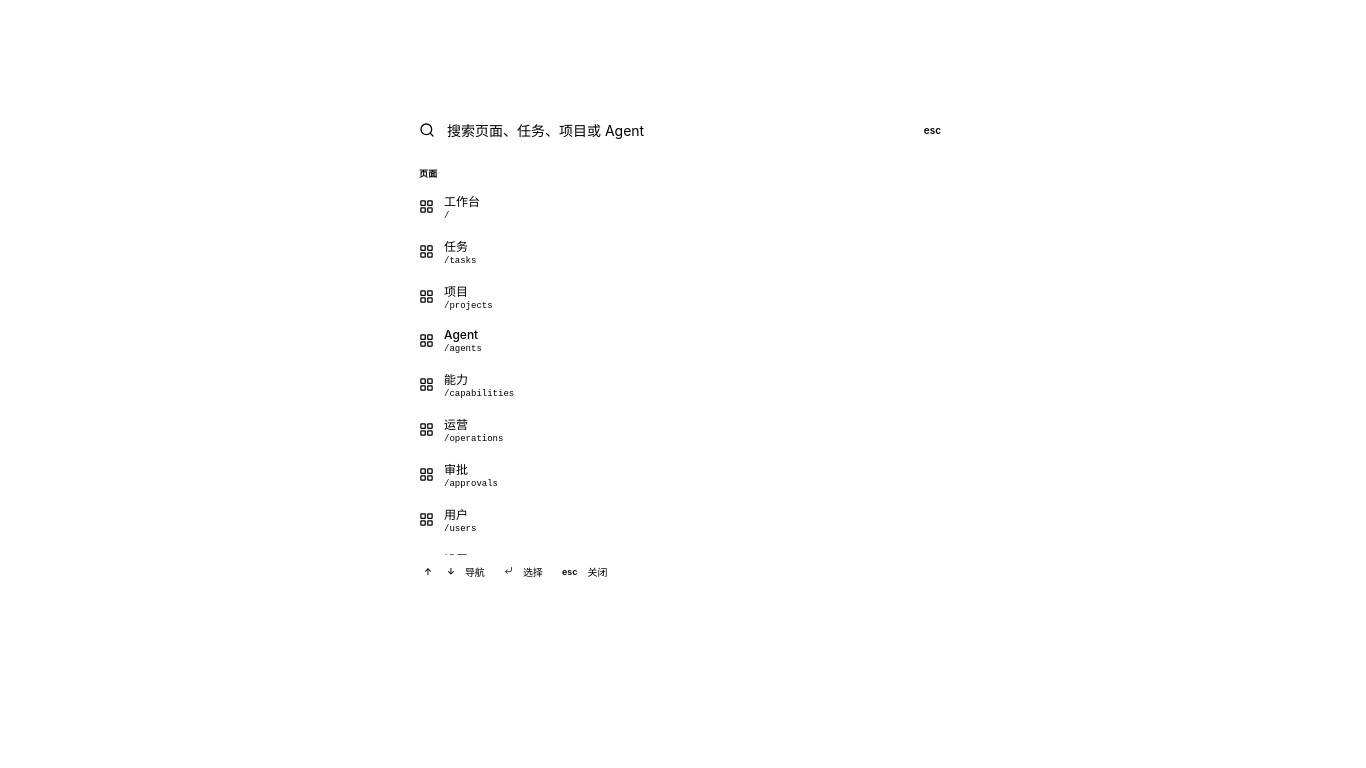
Test: CommandPalette › filters pages as the user types
The image size is (1366, 768).
Type "settings" into the dropdown. click: (676, 130)
box: x1=445 y1=120 x2=908 y2=140
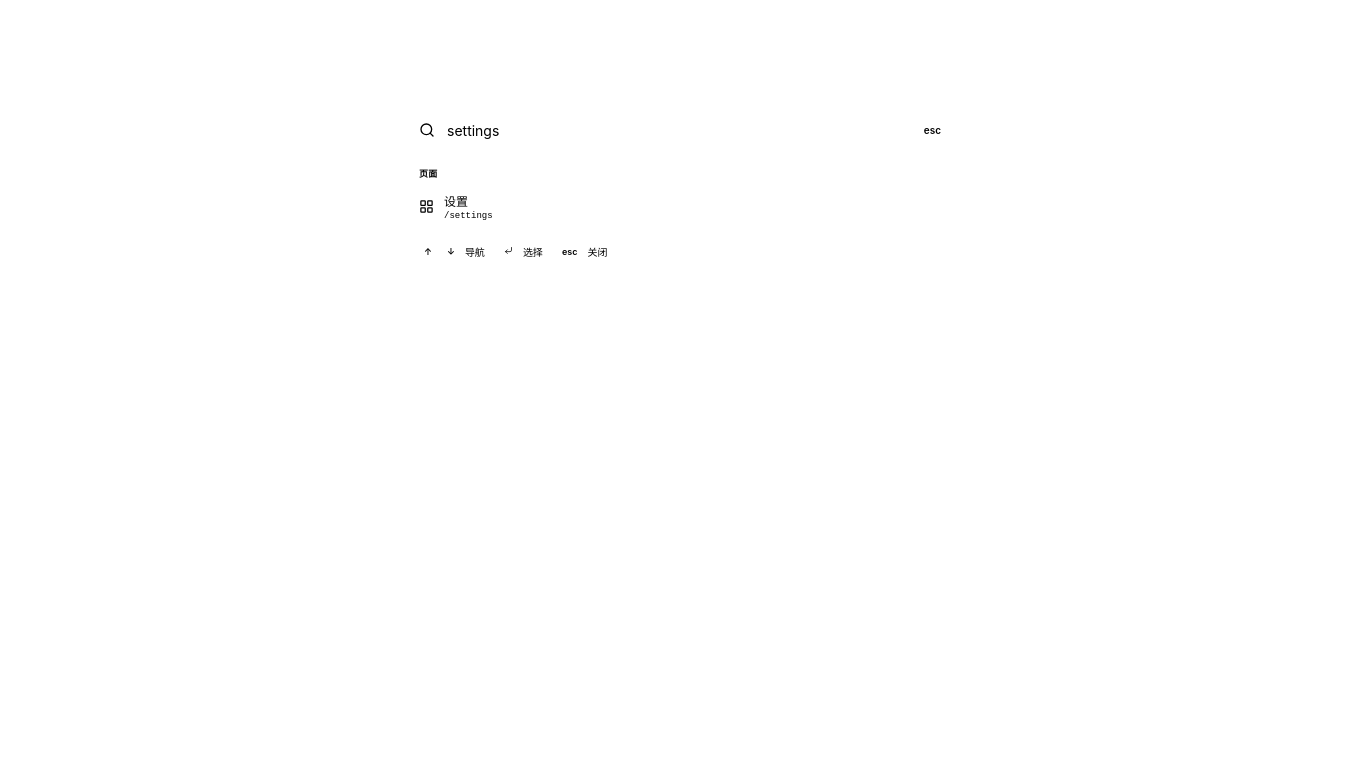
Check: the text "设置" is shown, box x1=444 y1=194 x2=468 y2=208
Check: the option "工作台" is gone
